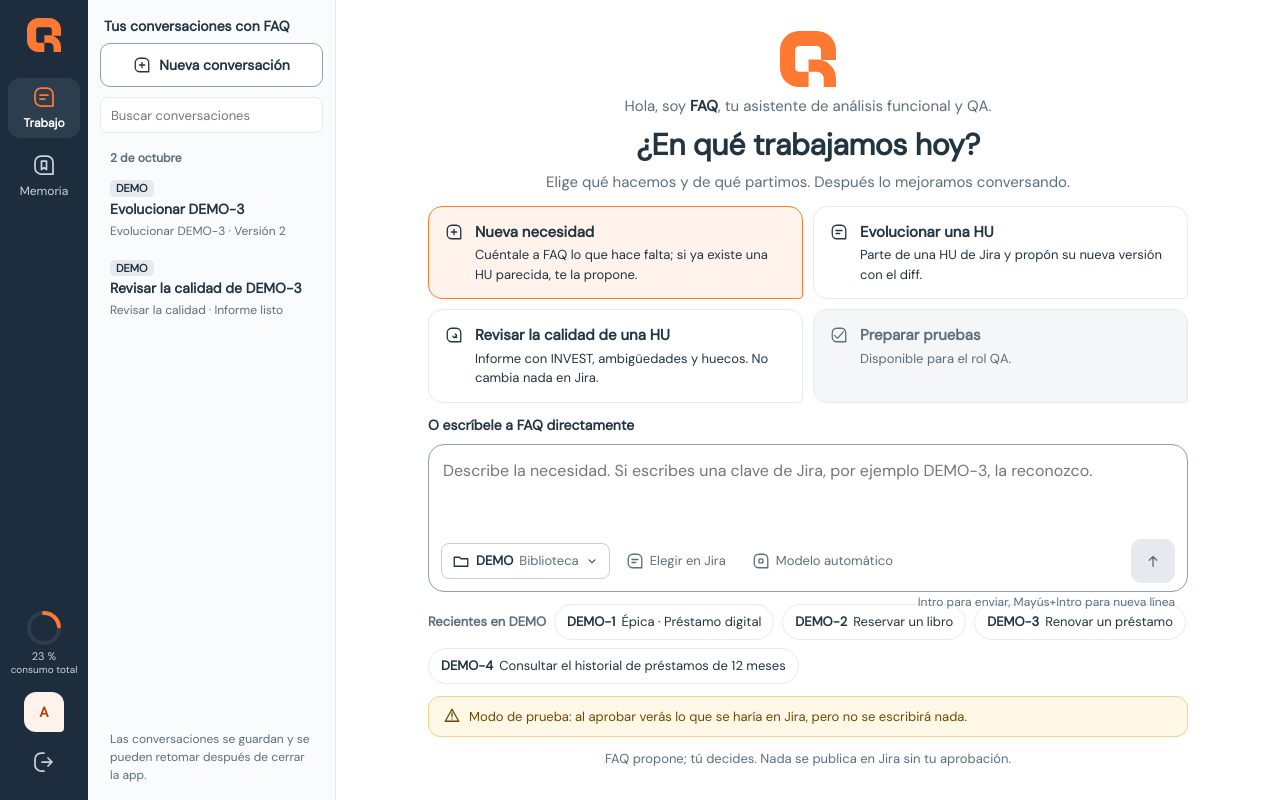
Scenario: Origen y fuentes · consultas de fuentes durante la generación (PA-336) › «Cambiar» (salir de Origen) aborta la consulta de la lista de fuentes en curso
Expected: the button with aria-label "Proyecto de Jira: DEMO" is shown, [441,543,610,579]
Step 1. Type "Renovar un préstamo desde la app" into the text box → point(808, 495), box [441,457,1175,533]
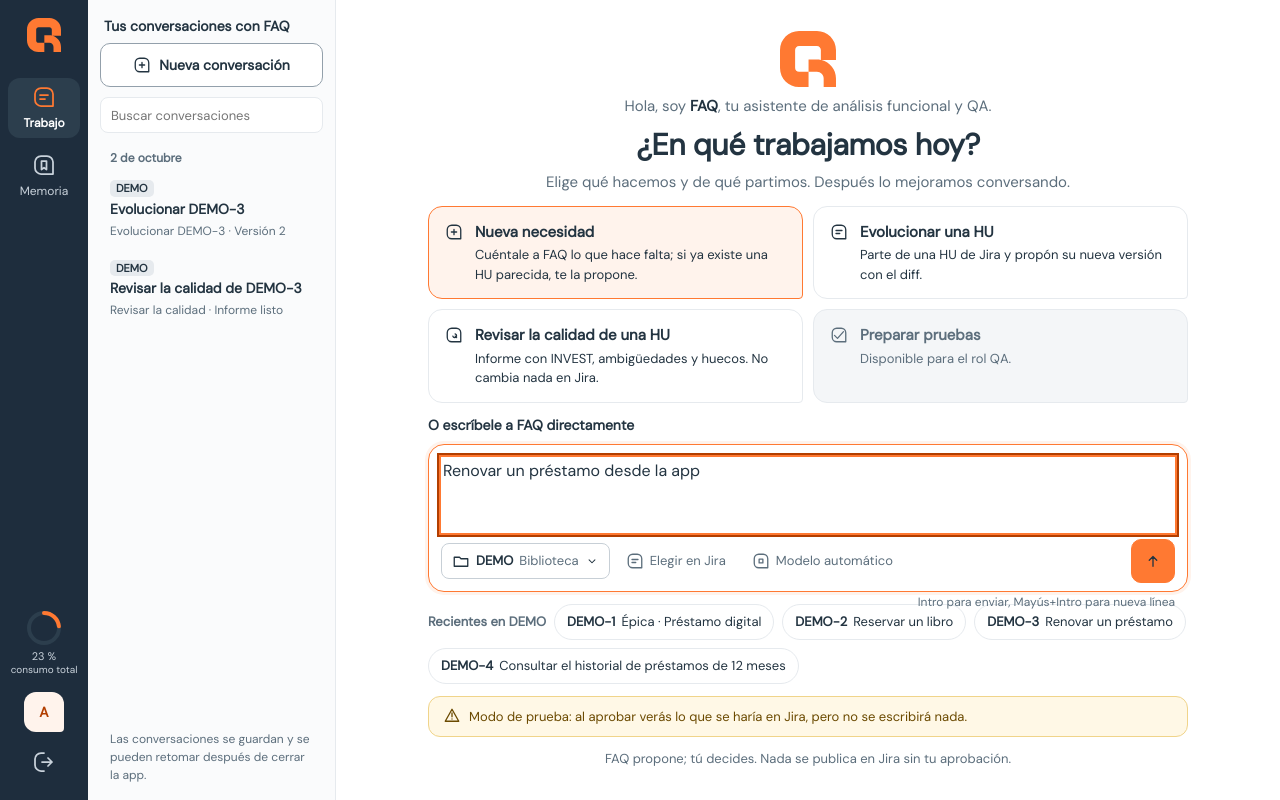
Step 2. Click the button named "Continuar" → point(1153, 561), box [1131,539,1175,583]
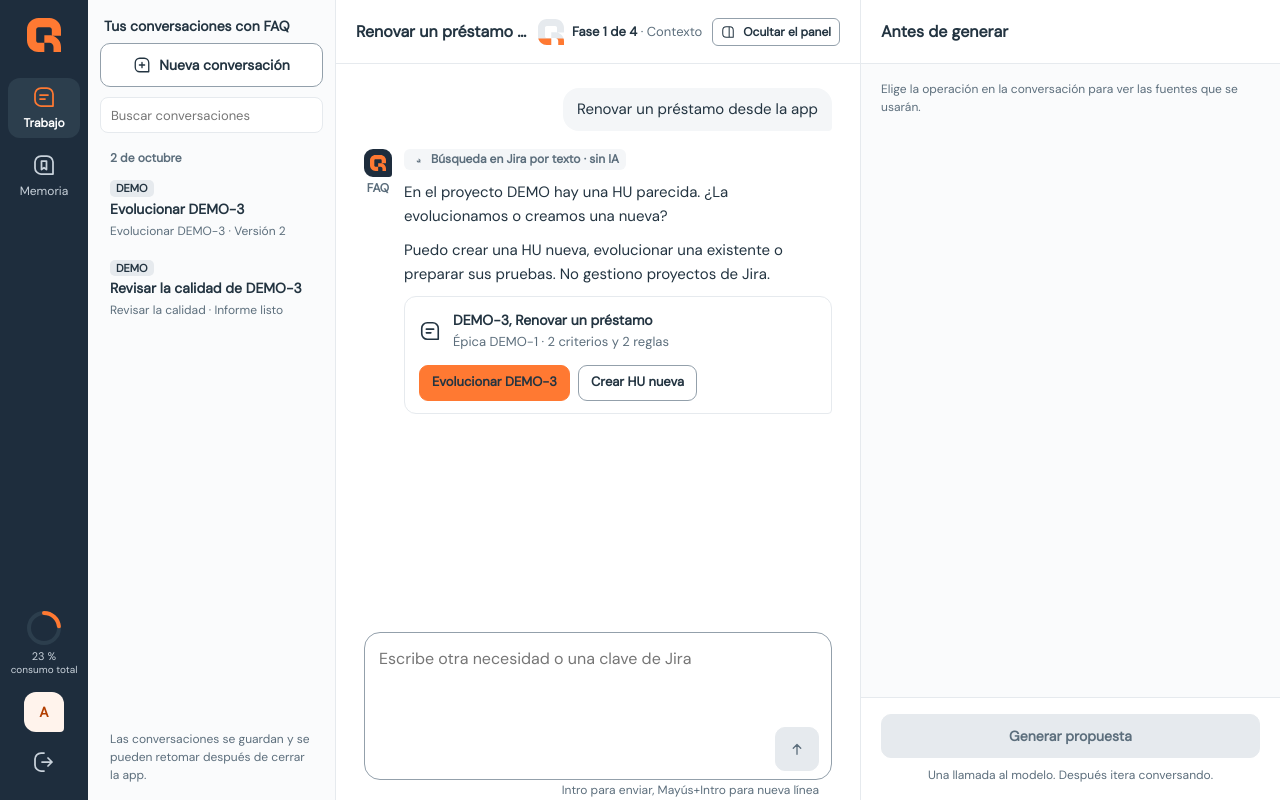
Step 3. Click the button "Evolucionar DEMO-3" → point(494, 383), box [419,365,570,401]
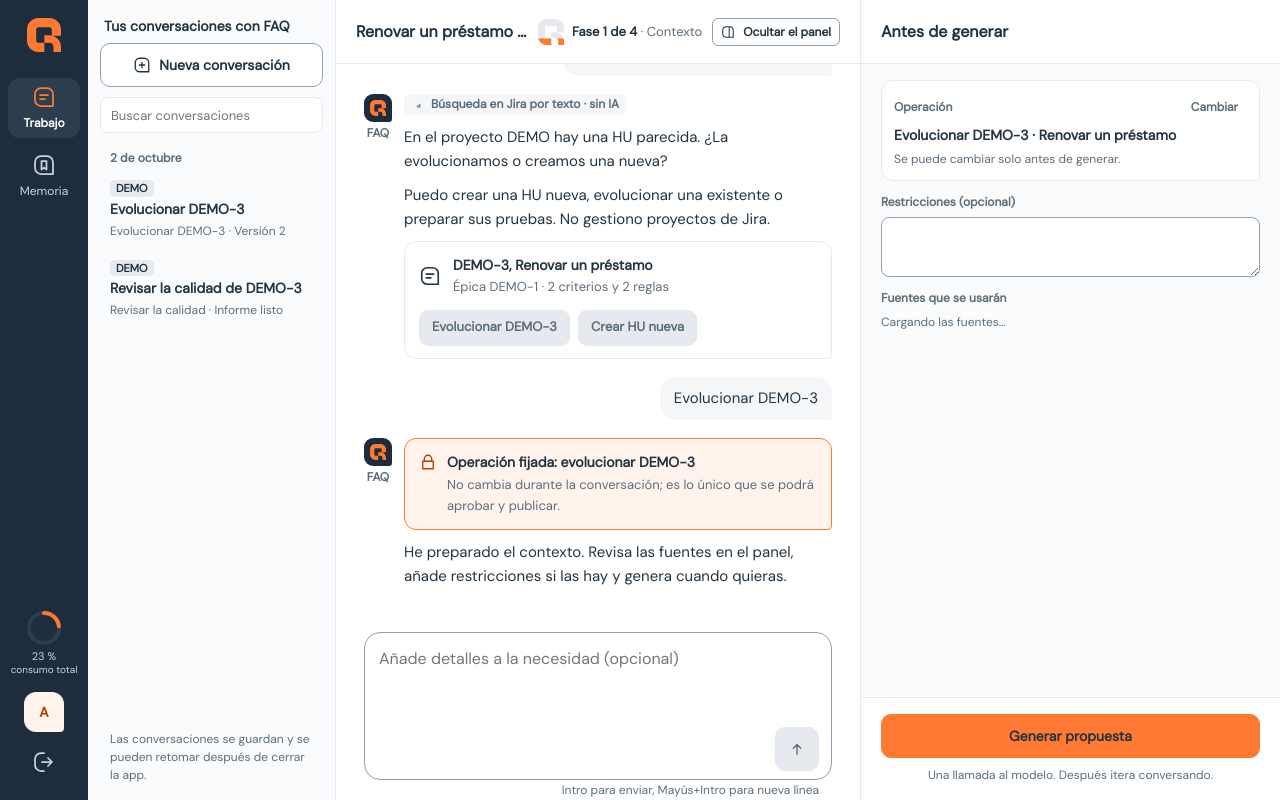
Step 4. Click the button "Cambiar" → point(1214, 107), box [1182,93,1247,121]
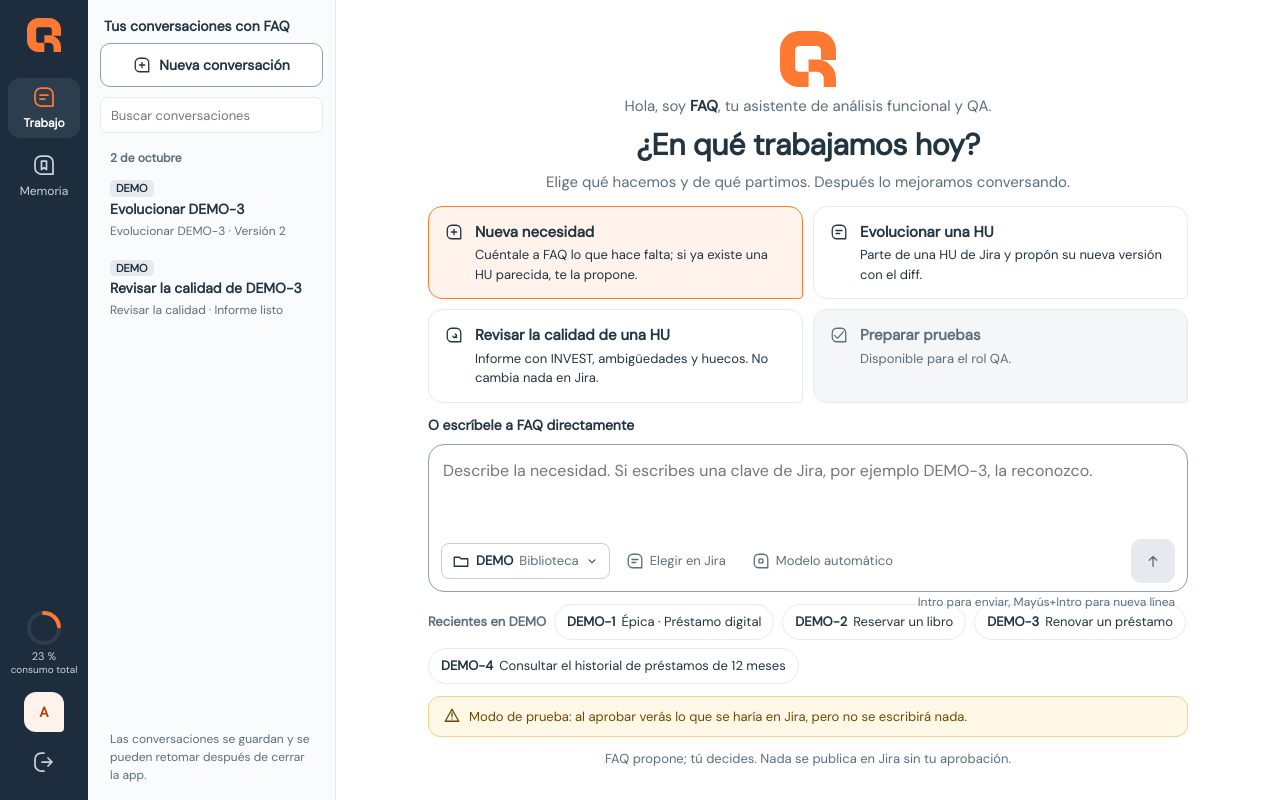
Expected: the heading "¿En qué trabajamos hoy?" is shown, [636,126,980,163]
